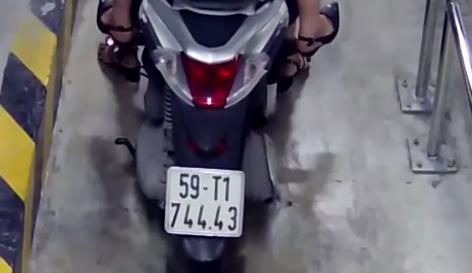lisence: (164, 166, 242, 238)
